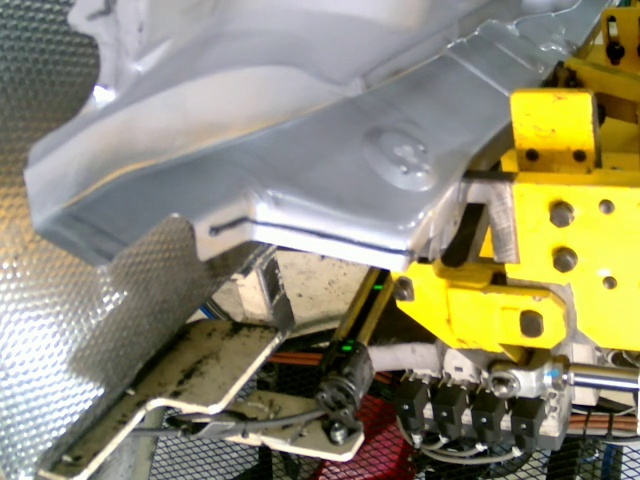line: (206, 213, 417, 258)
